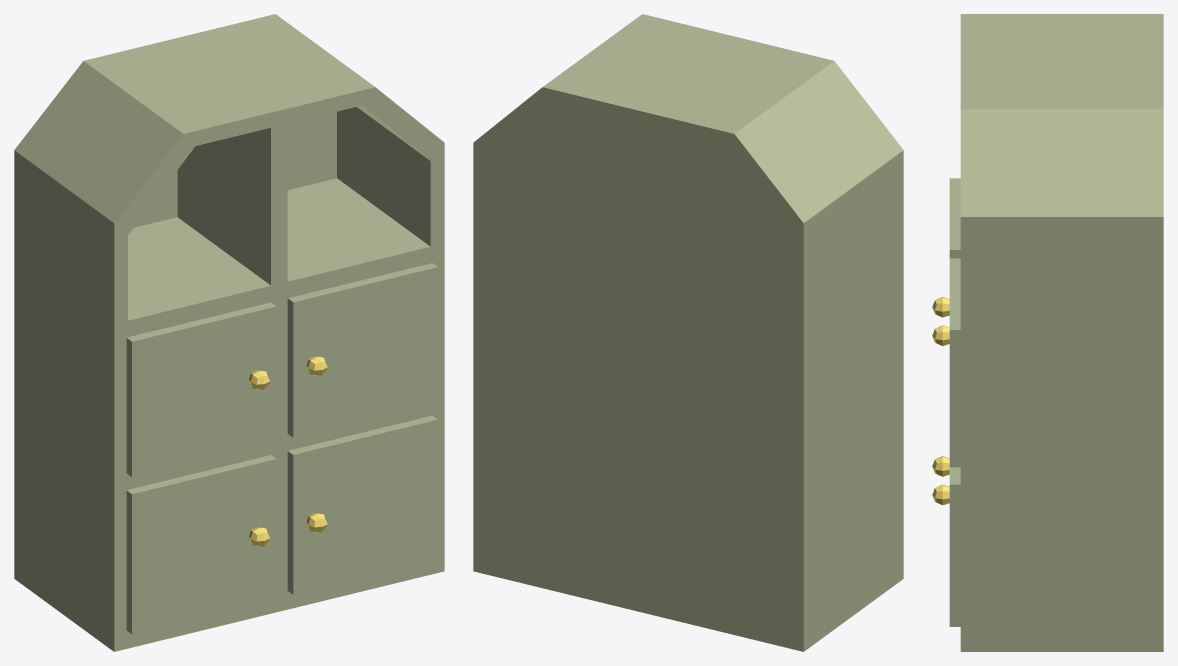
Rendered from Cupboard_1.fbx.
3 renders of one model, left to right at view 1: azimuth 30°, elevation 25°; view 2: azimuth 150°, elevation 25°; view 3: azimuth 270°, elevation 25°, orthographic.
Parts seen in each view (by area): view 1: Cupboard_1; view 2: Cupboard_1; view 3: Cupboard_1.
Part boxes in pixels (box(x1,y1,x2,y2)): Cupboard_1: box(14, 14, 444, 651); Cupboard_1: box(473, 14, 903, 651); Cupboard_1: box(932, 14, 1163, 651).
Bounding box in the file's own units: 189 × 113 × 273.
